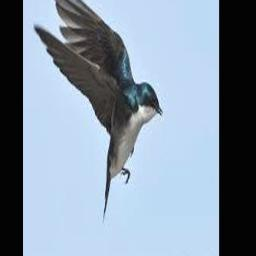Swallow: (34, 0, 162, 222)
